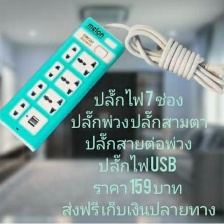three_eye_plug: (0, 13, 128, 158)
